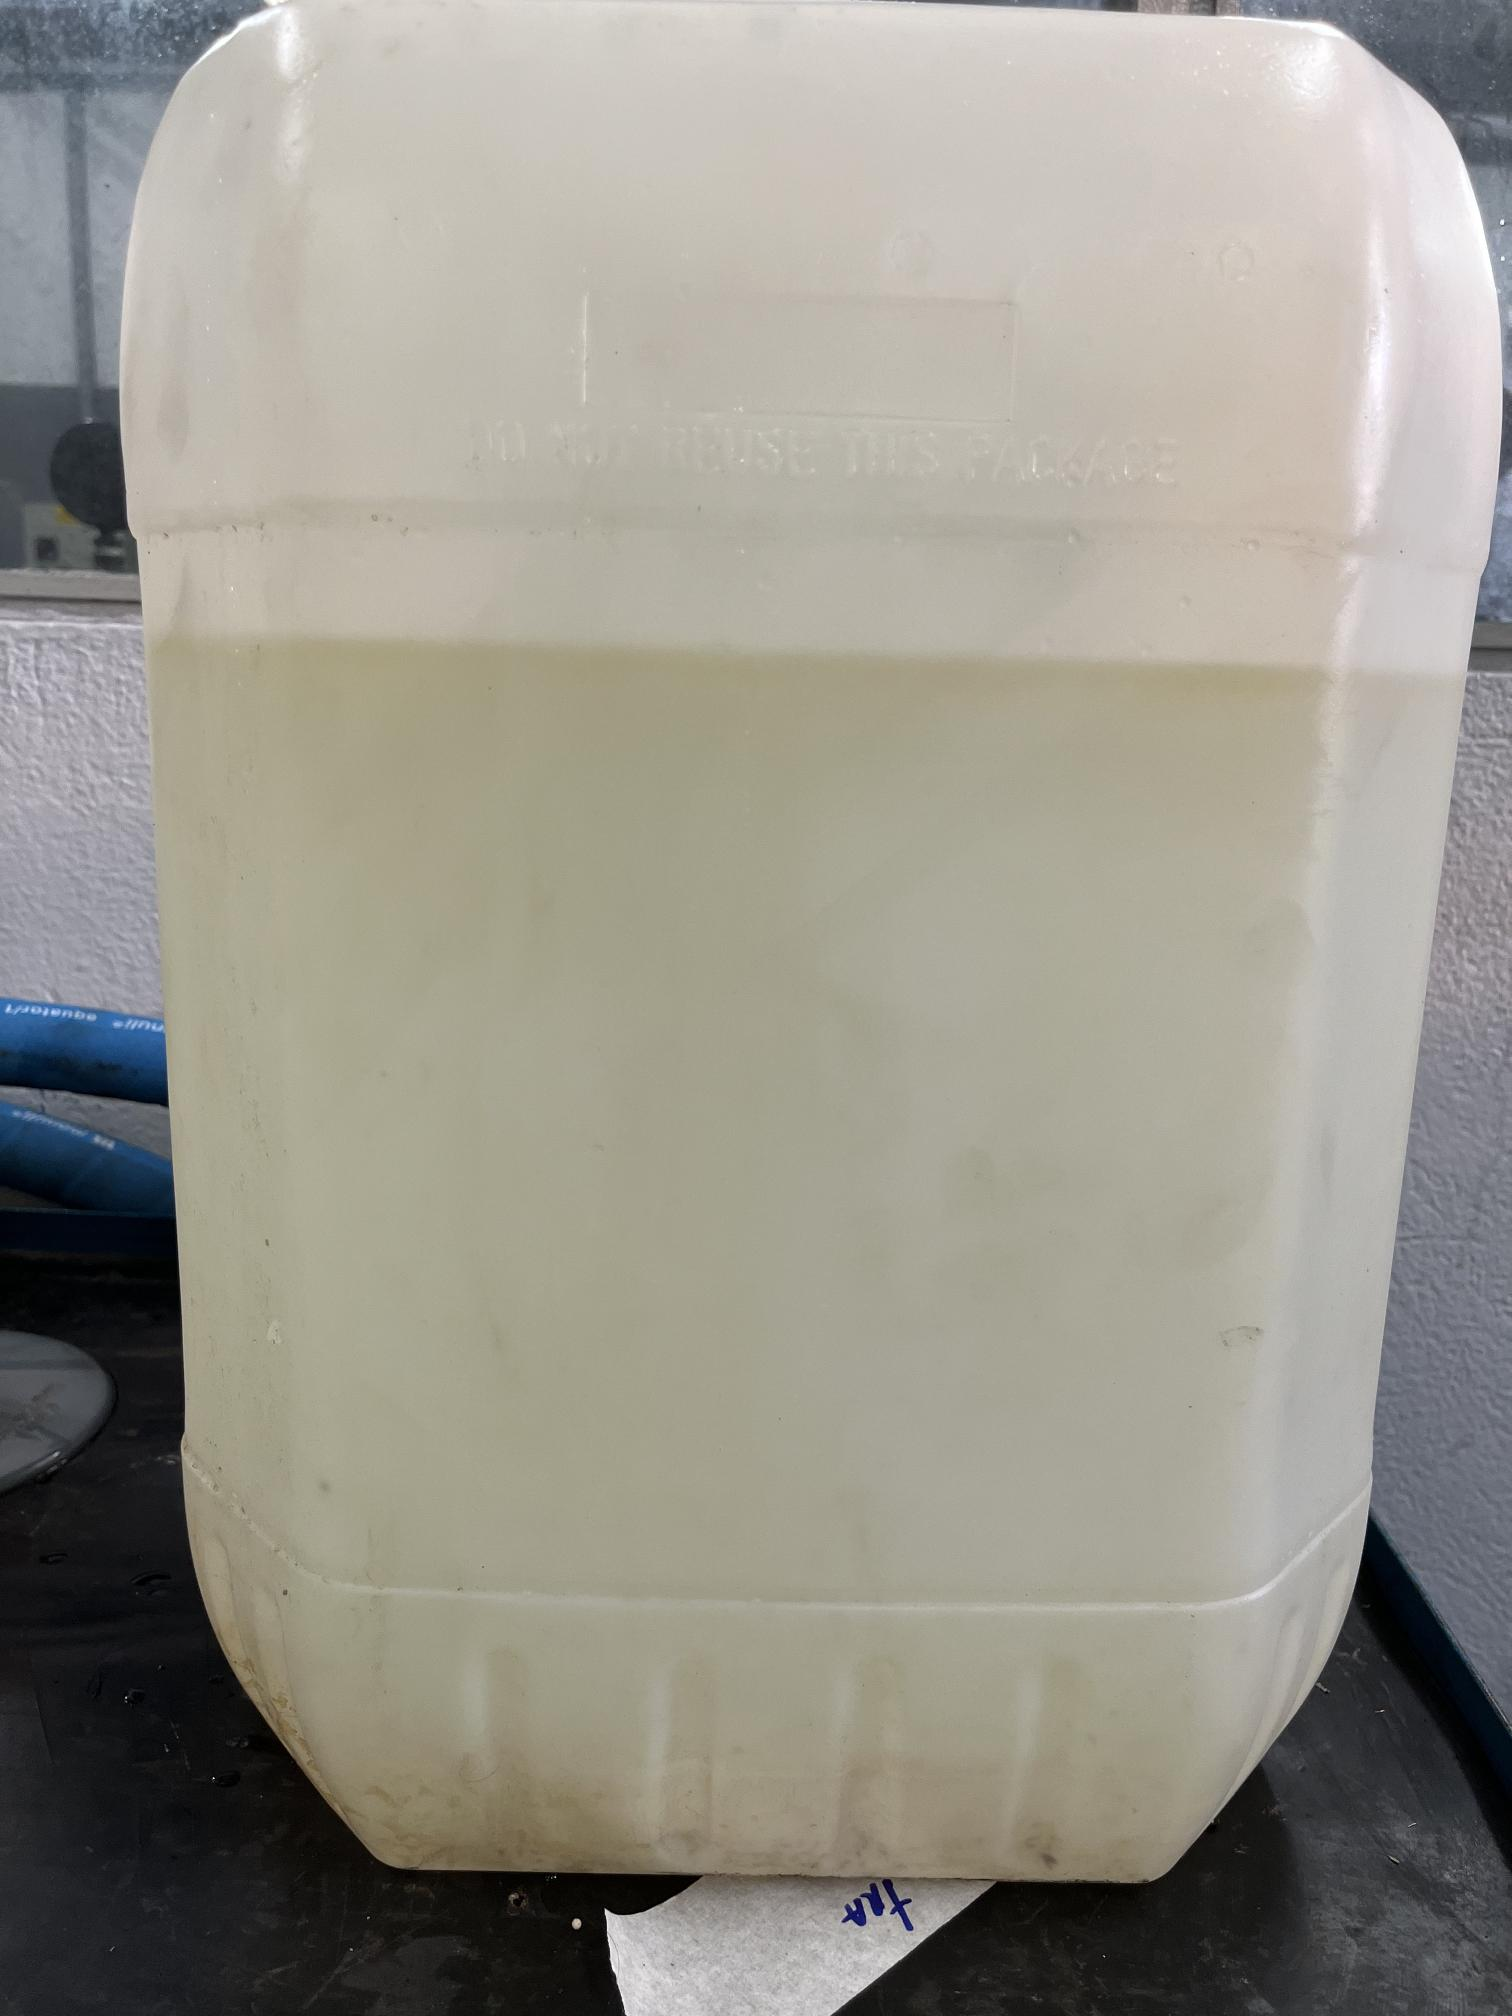Galao: (156, 44, 1460, 1945)
